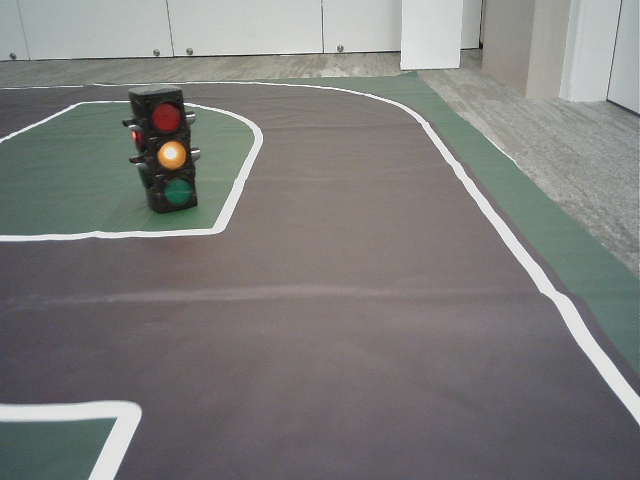yellow: (145, 97, 193, 208)
